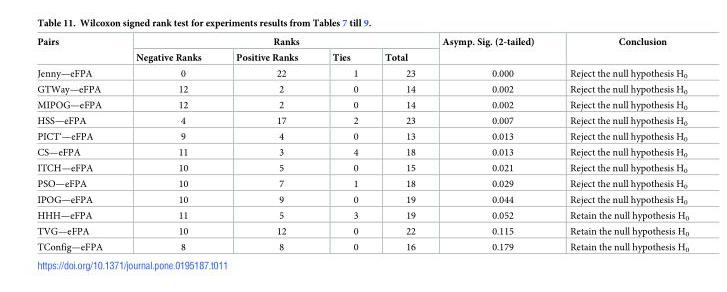table: (36, 36, 688, 252)
table column: (551, 36, 688, 252), (428, 36, 551, 252), (118, 36, 218, 252), (218, 36, 314, 252), (36, 36, 118, 252), (370, 36, 428, 252), (314, 36, 370, 252)
table column header: (36, 36, 688, 65)
table row: (36, 49, 688, 65), (36, 65, 688, 81), (36, 81, 688, 97), (36, 112, 688, 128), (36, 128, 688, 144), (36, 144, 688, 160), (36, 160, 688, 176), (36, 191, 688, 207), (36, 207, 688, 223), (36, 223, 688, 239), (36, 97, 688, 112), (36, 176, 688, 191), (36, 36, 688, 49), (36, 239, 688, 252)
table spanning cell: (118, 36, 428, 49), (551, 36, 688, 65), (428, 36, 551, 65), (36, 36, 118, 65)
